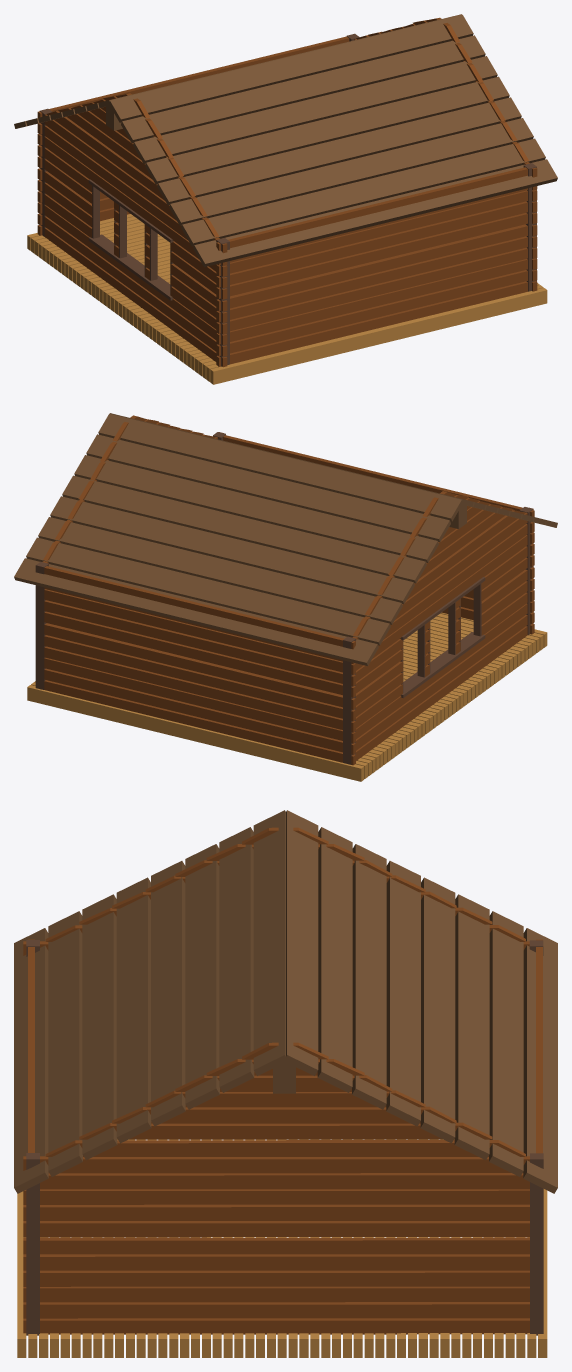
The model's file is RoomWithWindows.fbx.
3 views of the same model, one above another, from view 1: azimuth 30°, elevation 25°; view 2: azimuth 150°, elevation 25°; view 3: azimuth 270°, elevation 25° (orthographic). The views are drawn at different scales.
Visible parts, largest first — view 1: Cube.006, Roof.001, WoodenFloor.001, Roof2.001; view 2: Roof2.001, Cube.006, WoodenFloor.001, Roof.001; view 3: Cube.006, Roof2.001, Roof.001, WoodenFloor.001, Beam.001.
Boxes of the visible parts, x1,y1,x2,y2 form: Cube.006: (37,17,537,367); Roof.001: (109,14,557,267); WoodenFloor.001: (27,214,547,384); Roof2.001: (14,14,461,128); Roof2.001: (14,413,462,665); Cube.006: (35,415,534,765); WoodenFloor.001: (27,612,547,781); Roof.001: (110,413,557,527); Cube.006: (23,827,543,1335); Roof2.001: (283,810,557,1193); Roof.001: (14,810,285,1193); WoodenFloor.001: (17,1139,547,1357); Beam.001: (273,1061,295,1093).
Bounding box in the file's own units: 1582 × 932 × 1486.
